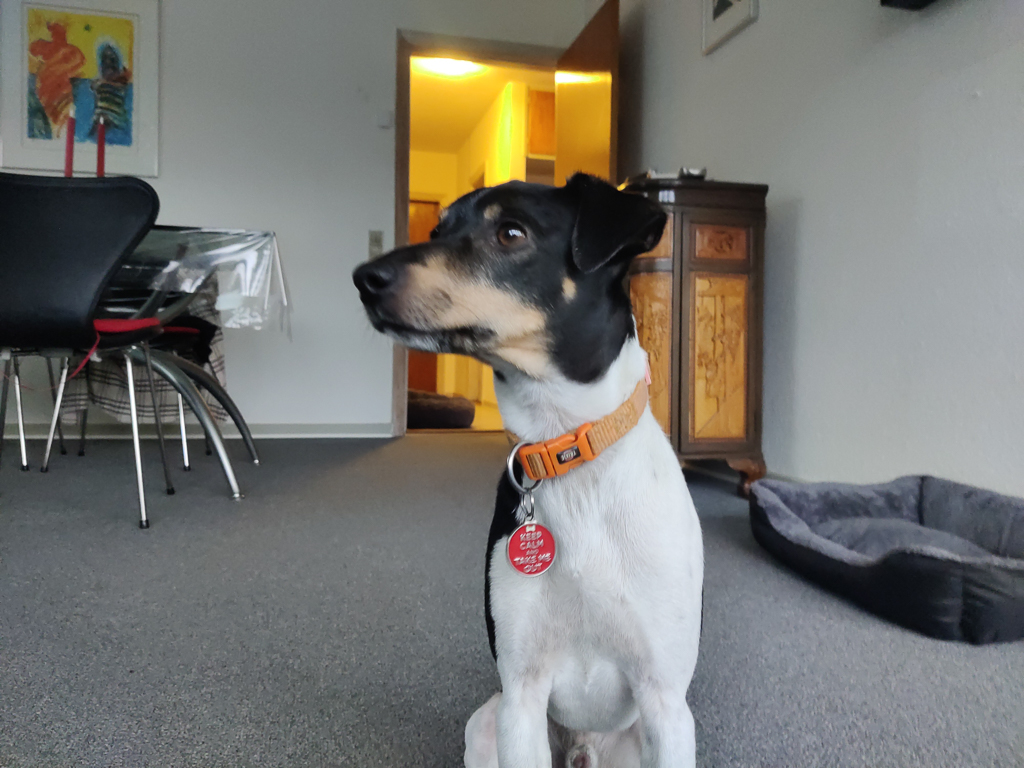Dog: (330, 153, 746, 768)
